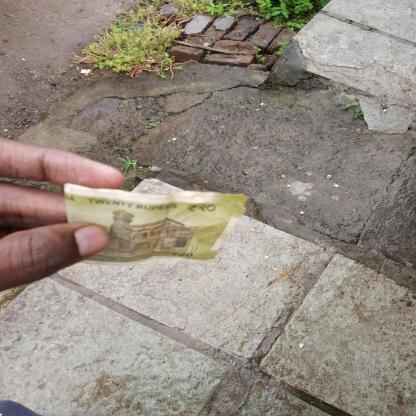New20Back: (62, 186, 235, 263)
